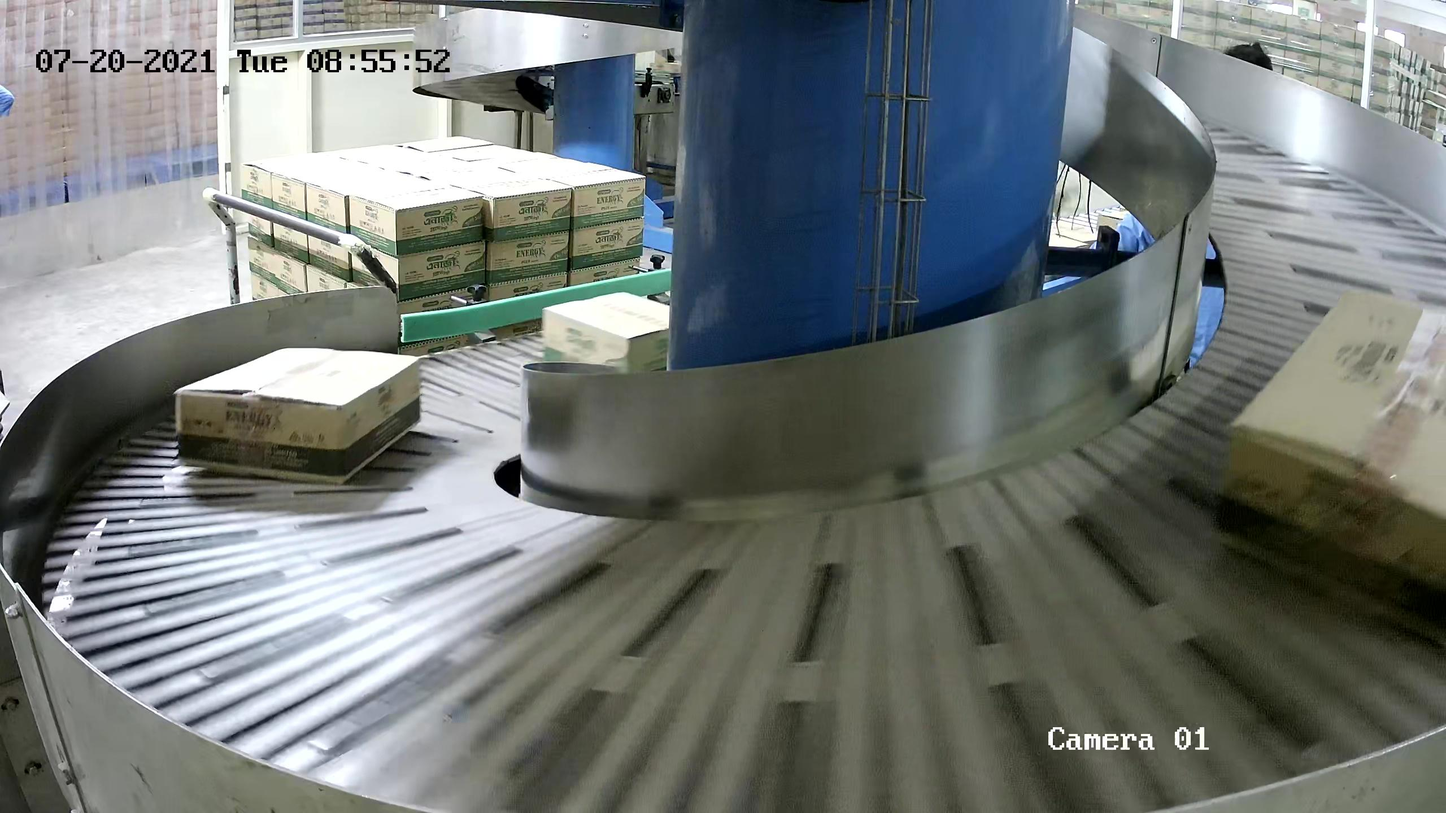Box: (1204, 282, 1446, 654), (173, 345, 421, 489), (541, 290, 698, 400)
